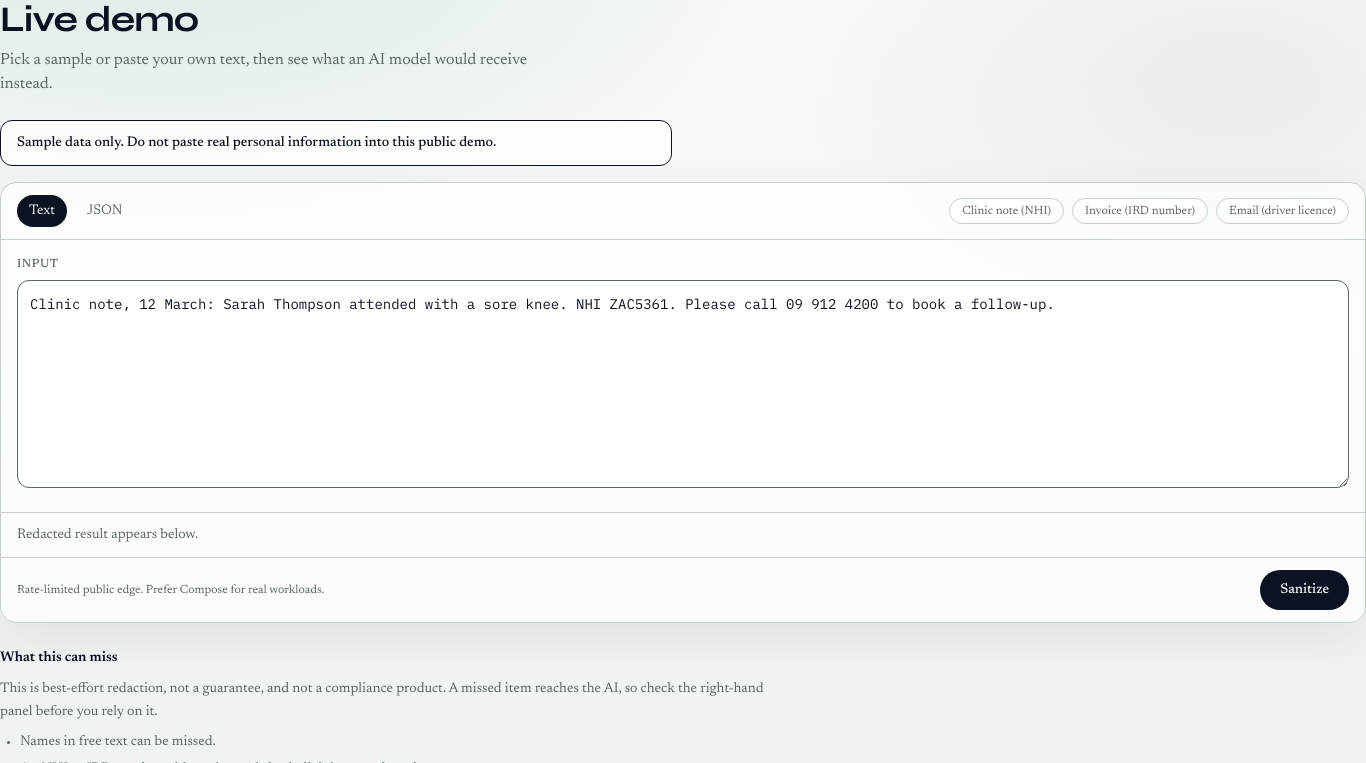
Test: Playground › shows our wording for a rate limit, not the server's text
Click the button "Sanitize" at x=1305, y=590, box x1=1260 y1=570 x2=1349 y2=610
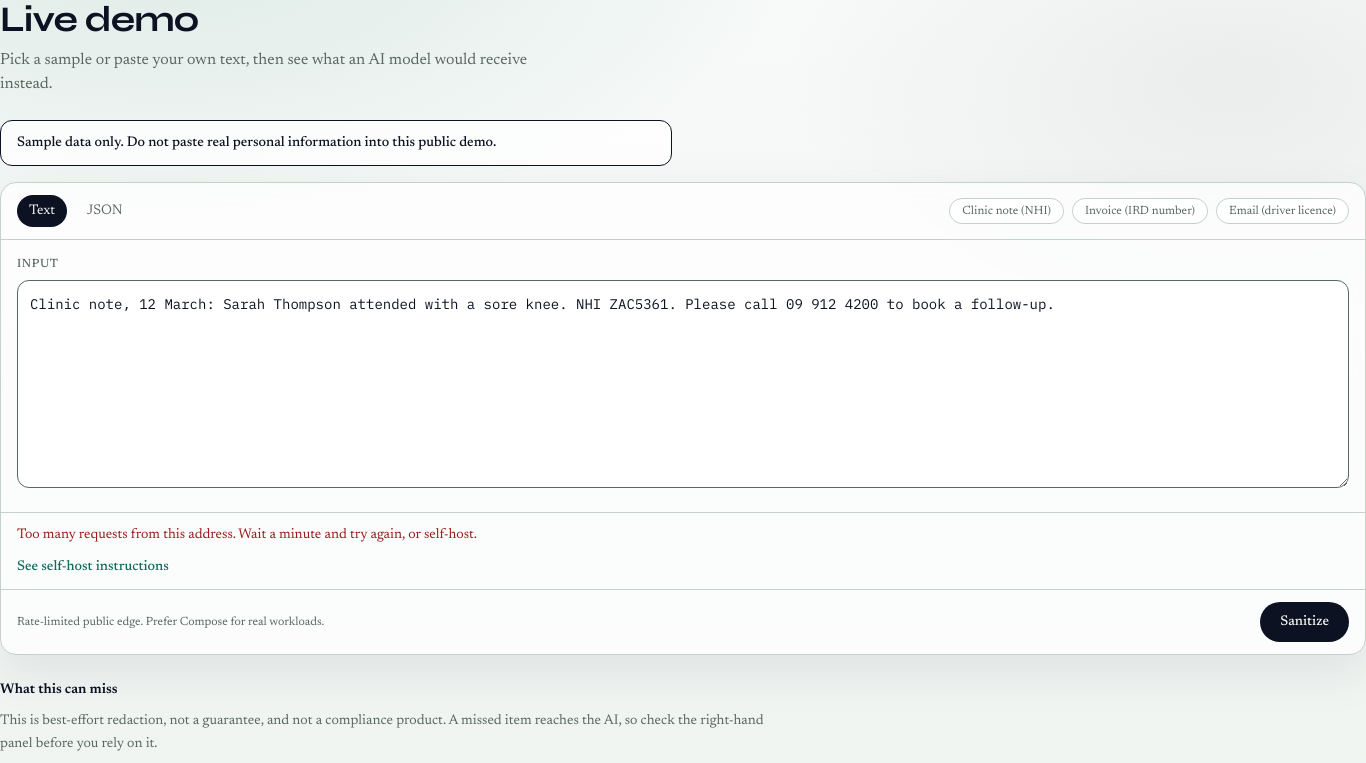
Now the message shows "Too many requests", box x1=17 y1=528 x2=477 y2=542
